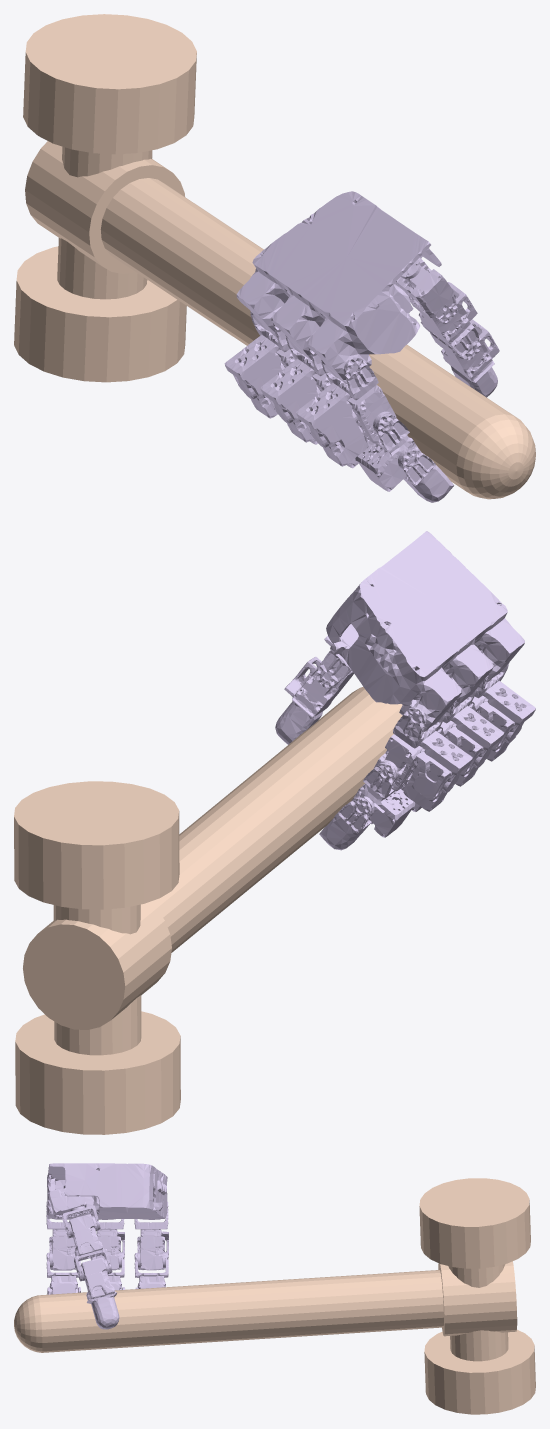
3 views of the same model, one above another, from view 1: azimuth 30°, elevation 25°; view 2: azimuth 150°, elevation 25°; view 3: azimuth 270°, elevation 25° (orthographic). The views are drawn at different scales.
Visible parts, largest first — view 1: world, LEAP_hand; view 2: world, LEAP_hand; view 3: world, LEAP_hand.
Boxes of the visible parts, x1=… form: world: x1=14, y1=14, x2=535, y2=499; LEAP_hand: x1=224, y1=191, x2=499, y2=502; world: x1=14, y1=687, x2=402, y2=1134; LEAP_hand: x1=275, y1=531, x2=535, y2=850; world: x1=14, y1=1178, x2=535, y2=1414; LEAP_hand: x1=46, y1=1163, x2=168, y2=1329.
Size of the model in its own units: 0.1751 by 0.258 by 0.5383.
